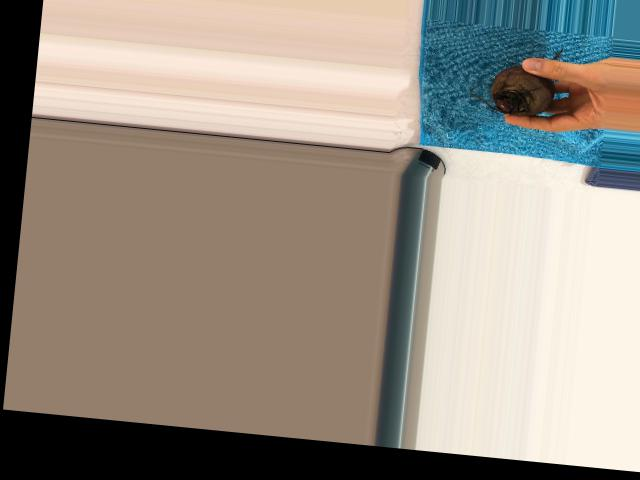beet: (468, 39, 562, 118)
